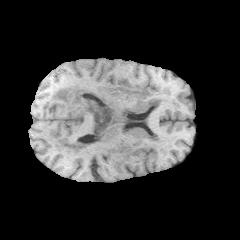glioma: (45, 81, 180, 173)
